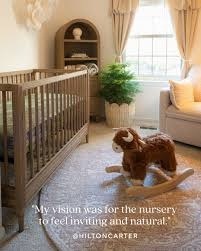crib: (0, 68, 90, 232)
